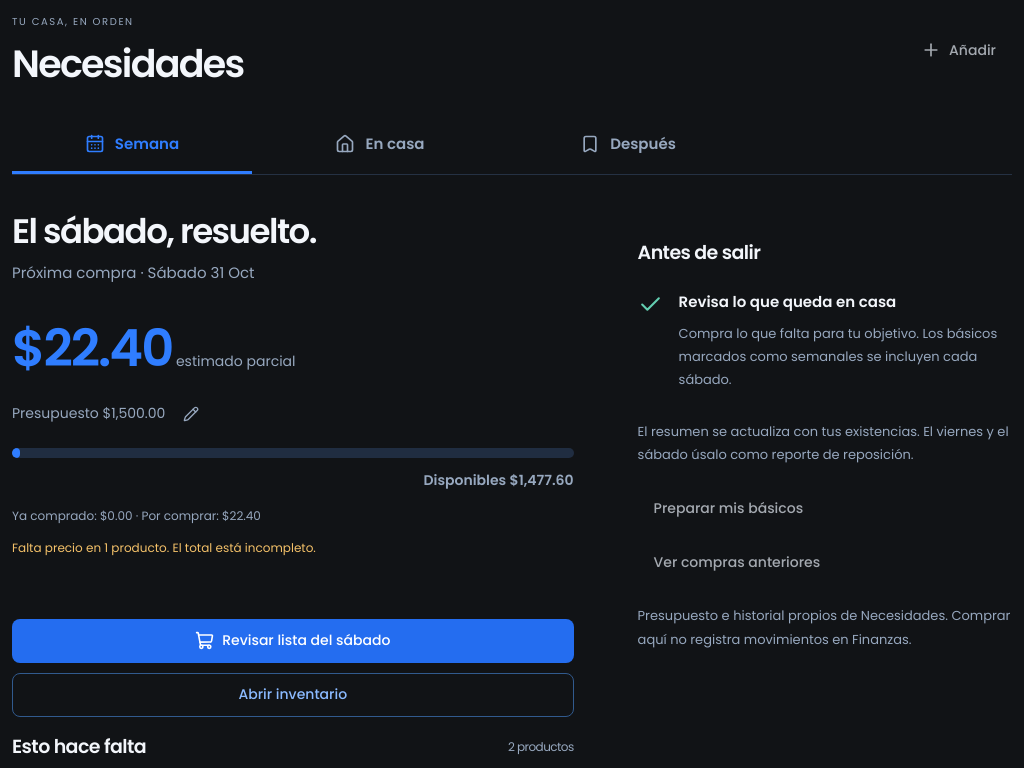
Necesidades weekly shopping › warns about incomplete estimates and never treats unknown price as a completed checkout
Check: the text "Falta precio en 1 producto. El total está incompleto." is shown, box top-left (12, 539), bottom-right (316, 556)
Click the button "Revisar lista del sábado" at [293, 641], box top-left (12, 619), bottom-right (574, 663)
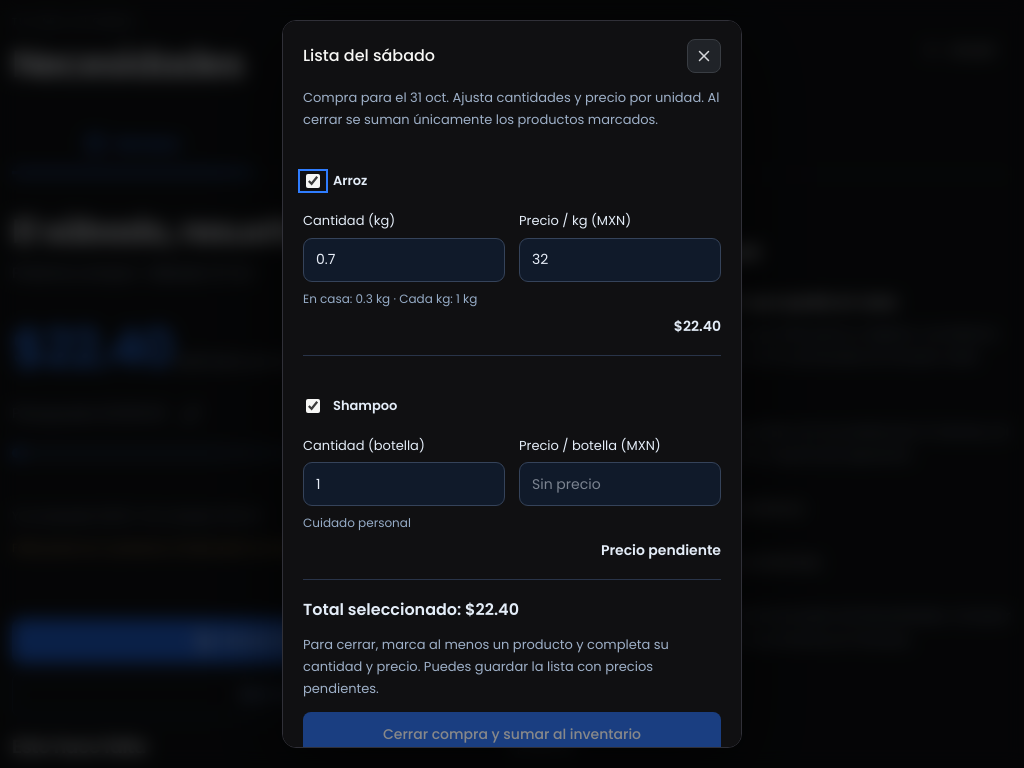
Check: the button "Cerrar compra y sumar al inventario" is disabled, box top-left (303, 712), bottom-right (721, 748)
Type "80" into the number field named "Precio de Shampoo" at [620, 484], box top-left (519, 462), bottom-right (721, 506)
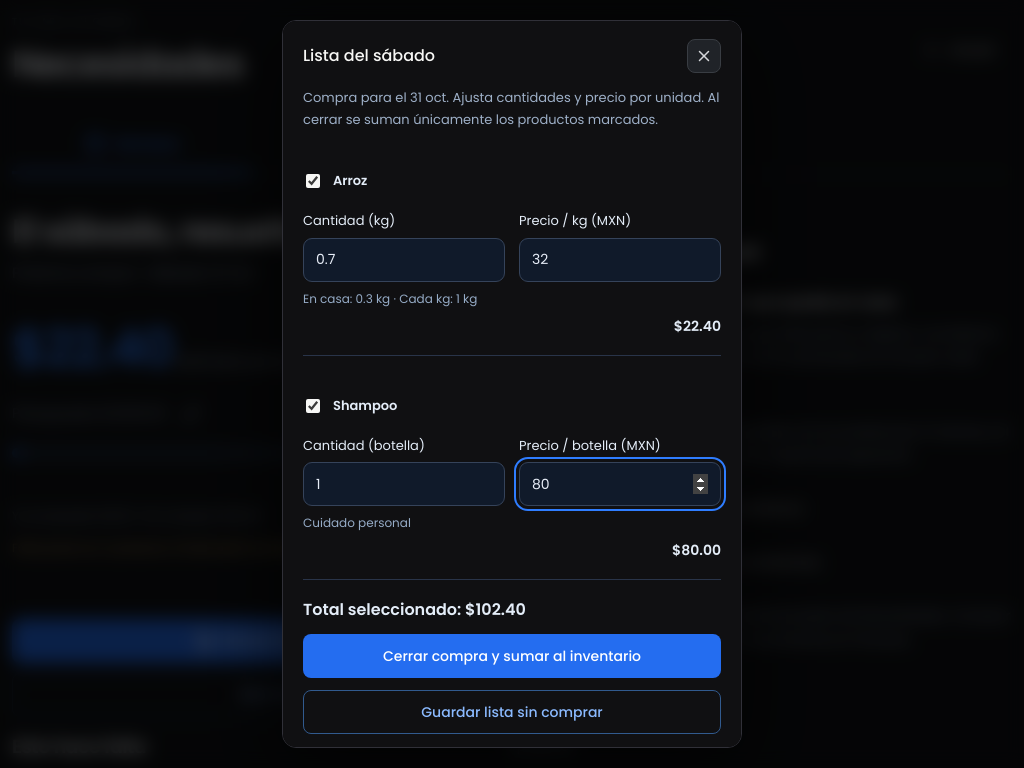
Check: the button "Cerrar compra y sumar al inventario" is enabled, box top-left (303, 634), bottom-right (721, 678)
